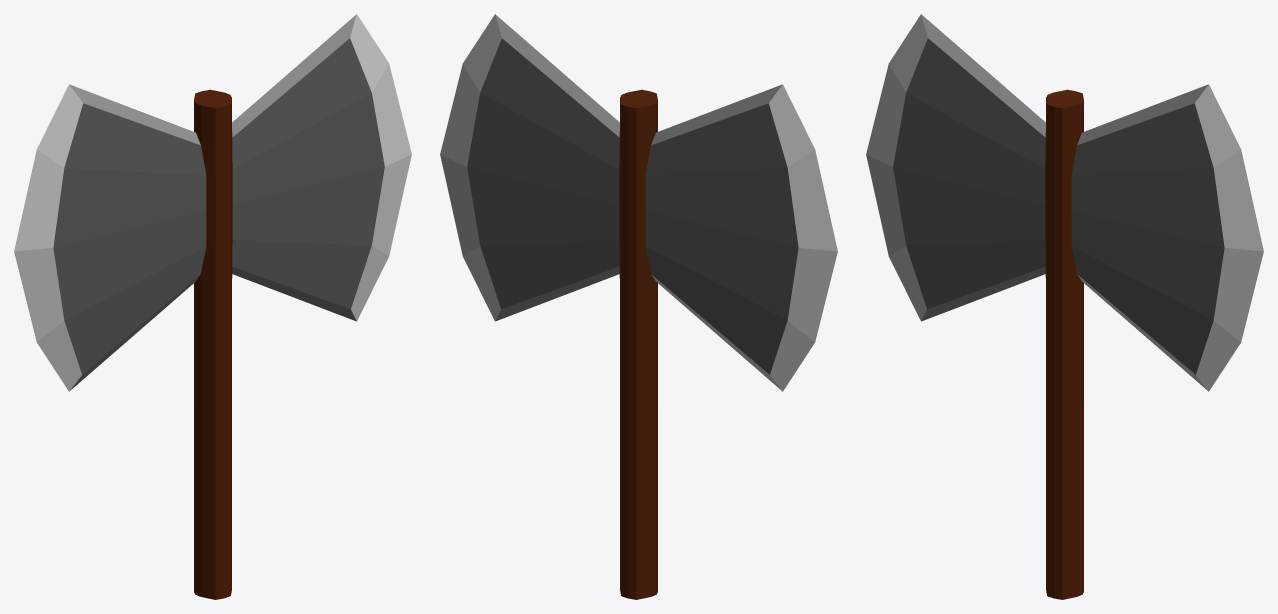
File: axe.glb
3 renders of one model, left to right at view 1: azimuth 30°, elevation 25°; view 2: azimuth 150°, elevation 25°; view 3: azimuth 330°, elevation 25°, orthographic.
Visible parts, largest first — view 1: Axe; view 2: Axe; view 3: Axe.
Boxes of the visible parts, <box> form: Axe: <box>14,14,411,599</box>; Axe: <box>440,14,837,599</box>; Axe: <box>866,14,1263,599</box>.
Size of the model in its own units: 2.2 by 2.86 by 0.2051.
Materials: 2 (2 with a texture image).
